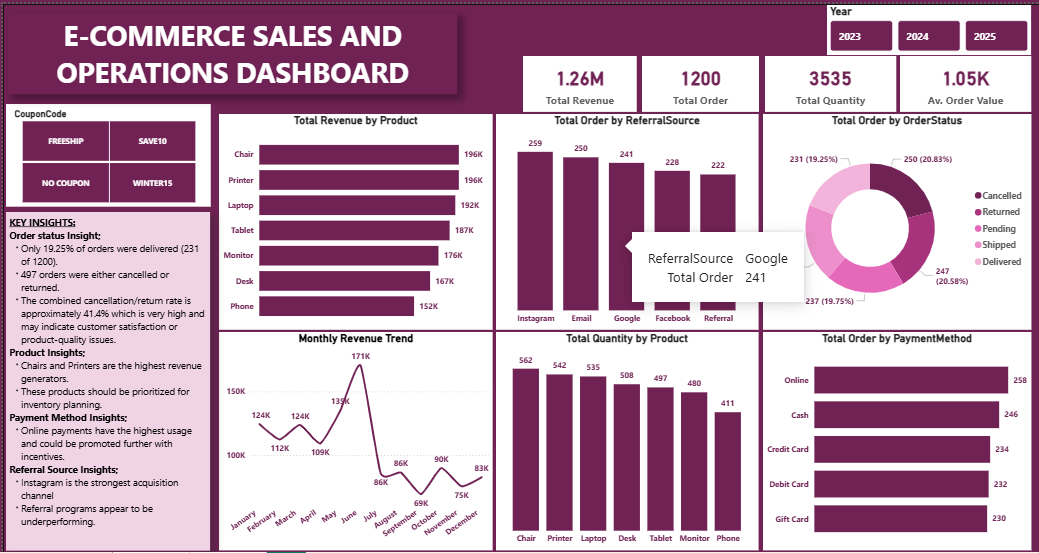

This screenshot's page, from the dashboard's own definition file:
{"tool":"powerbi","page":{"name":"Page 2","canvas":[1600,850],"ordinal":1},"visuals":[{"type":"barChart","fields":{"Category":["CleanedData.Product"],"Y":["CleanedData.Total Revenue"]},"box":[332.1,169.6,421.4,332.1],"z":0},{"type":"columnChart","fields":{"Category":["CleanedData.Product"],"Y":["CleanedData.Total Quantity"]},"box":[758.9,505.4,403.6,335.7],"z":1000},{"type":"lineChart","title":"Monthly Revenue Trend","fields":{"Category":["CleanedData.Date.Variation.Date Hierarchy.Month"],"Y":["CleanedData.Total Revenue"]},"box":[332.1,505.4,421.4,335.7],"z":2000},{"type":"clusteredColumnChart","fields":{"Y":["CleanedData.Total Order"],"Category":["CleanedData.ReferralSource"]},"box":[758.9,169.6,403.6,332.1],"z":3000},{"type":"barChart","fields":{"Category":["CleanedData.PaymentMethod"],"Y":["CleanedData.Total Order"]},"box":[1169.6,505.4,412.5,335.7],"z":4000},{"type":"donutChart","fields":{"Category":["CleanedData.OrderStatus"],"Y":["CleanedData.Total Order"]},"box":[1169.6,169.6,412.5,332.1],"z":5000},{"type":"card","fields":{"Values":["CleanedData.Total Revenue"]},"box":[800.3,80.4,175,85.7],"z":6000},{"type":"card","fields":{"Values":["CleanedData.Total Order"]},"box":[982.4,80.4,180.4,85.7],"z":7000},{"type":"card","fields":{"Values":["CleanedData.Total Quantity"]},"box":[1171.7,80.4,201.8,85.7],"z":8000},{"type":"card","fields":{"Values":["CleanedData.Av. Order Value"]},"box":[1380.6,80.4,201.8,85.7],"z":9000},{"type":"advancedSlicerVisual","fields":{"Values":["CleanedData.Date.Variation.Date Hierarchy.Year"]},"box":[1267.9,1.8,314.3,76.8],"z":10000},{"type":"slicer","fields":{"Values":["CleanedData.CouponCode"]},"box":[4.6,153.8,315.4,158.5],"z":11000},{"type":"textbox","box":[5.4,319.6,314.3,521.4],"z":12000},{"type":"textbox","box":[7.1,14.3,691.1,125],"z":13000}]}

Visuals, with their boxes in screenshot pixels (x1, y1, x2, y2), scaled from the page's 1600x850 canvas onto the 1039x553 screenshot:
barChart - CleanedData.Product x CleanedData.Total Revenue: x1=216 y1=110 x2=489 y2=326
columnChart - CleanedData.Product x CleanedData.Total Quantity: x1=493 y1=329 x2=755 y2=547
"Monthly Revenue Trend" lineChart: x1=216 y1=329 x2=489 y2=547
clusteredColumnChart - CleanedData.Total Order x CleanedData.ReferralSource: x1=493 y1=110 x2=755 y2=326
barChart - CleanedData.PaymentMethod x CleanedData.Total Order: x1=760 y1=329 x2=1027 y2=547
donutChart - CleanedData.OrderStatus x CleanedData.Total Order: x1=760 y1=110 x2=1027 y2=326
card - CleanedData.Total Revenue: x1=520 y1=52 x2=633 y2=108
card - CleanedData.Total Order: x1=638 y1=52 x2=755 y2=108
card - CleanedData.Total Quantity: x1=761 y1=52 x2=892 y2=108
card - CleanedData.Av. Order Value: x1=897 y1=52 x2=1028 y2=108
advancedSlicerVisual - CleanedData.Date.Variation.Date Hierarchy.Year: x1=823 y1=1 x2=1027 y2=51
slicer - CleanedData.CouponCode: x1=3 y1=100 x2=208 y2=203
textbox: x1=4 y1=208 x2=208 y2=547
textbox: x1=5 y1=9 x2=453 y2=91
